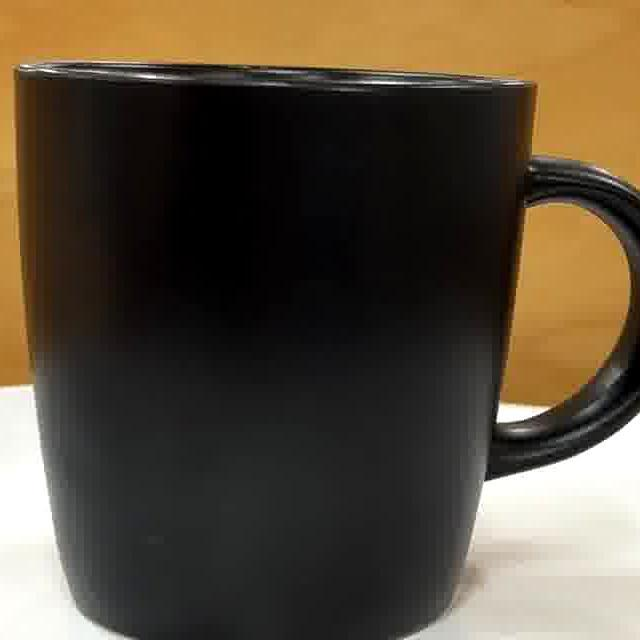cup: (21, 65, 640, 640)
